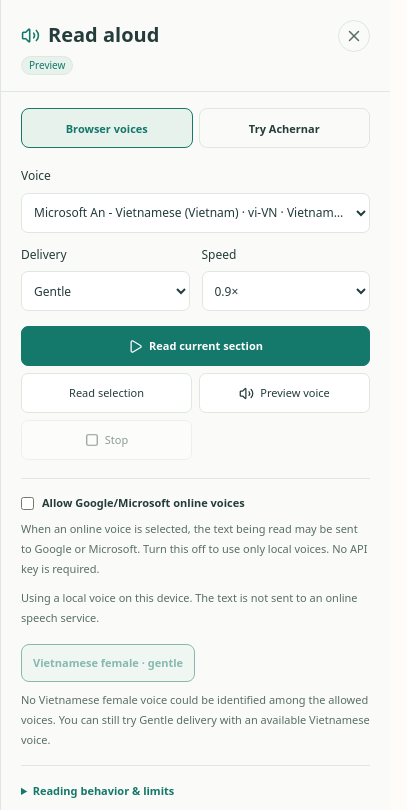
Scenario: read aloud panel › requires opt-in for browser online voices, labels the provider and previews only after a click
The width and height of the screenshot is (407, 810).
expect the option "HoaiMy" is not shown: met
Click the checkbox labelled "Allow Google/Microsoft online voices" at (28, 504), box [21,497,34,510]
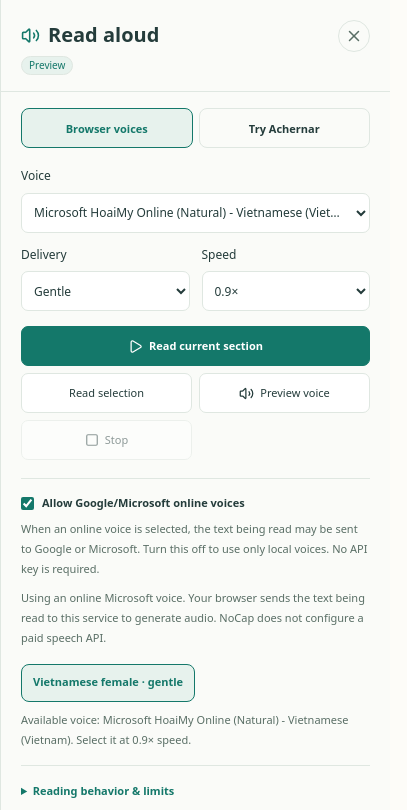
expect the text "Using an online Microsoft voice" is shown: met, box [21,590,365,645]
Click the button "Preview voice" at (284, 393), box [199,373,370,413]
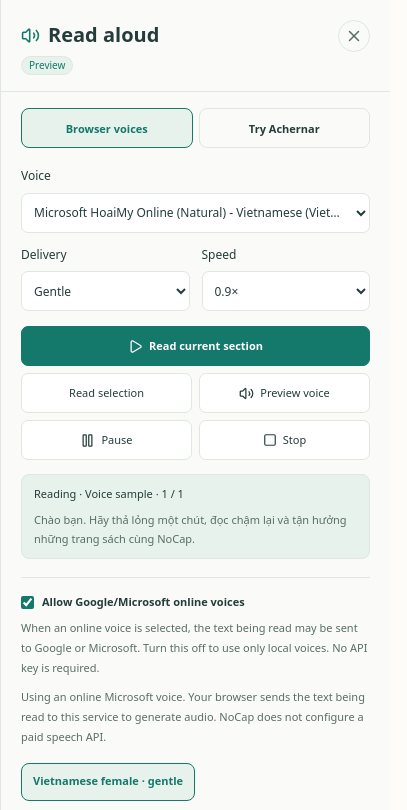
Click the checkbox labelled "Allow Google/Microsoft online voices" at (28, 603), box [21,596,34,609]
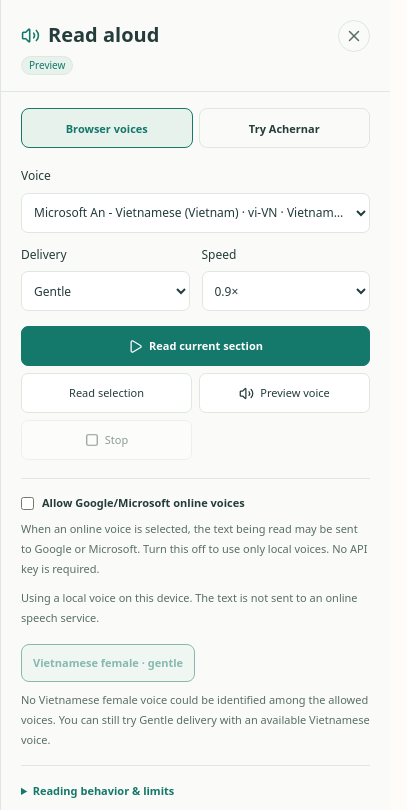
expect the text "HoaiMy" is not shown: met
expect the text "Using a local voice" is shown: met, box [21,590,358,625]
expect the button "Pause" is gone: met
